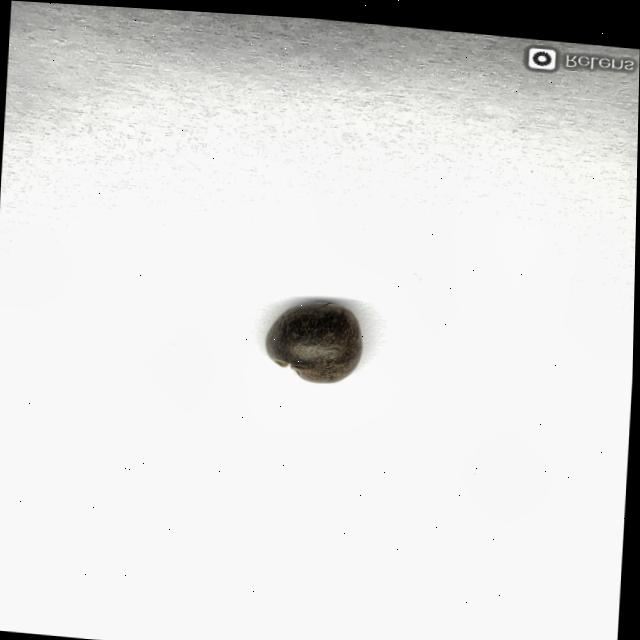Black: (263, 292, 367, 384)
